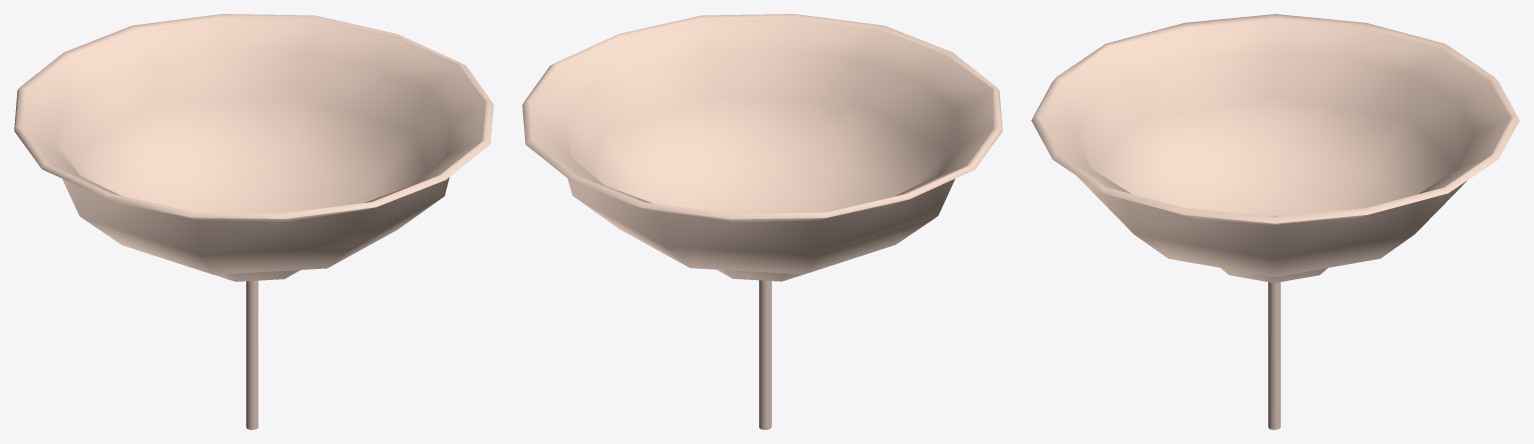
Rendered from Lampe3.fbx.
The picture shows the model from 3 angles, left to right: view 1: azimuth 30°, elevation 25°; view 2: azimuth 150°, elevation 25°; view 3: azimuth 270°, elevation 25°; orthographic projection.
Parts seen in each view (by area): view 1: Lampe3; view 2: Lampe3; view 3: Lampe3.
Boxes of the visible parts, box(x1,y1,x2,y2) form: Lampe3: box(14, 14, 493, 429); Lampe3: box(522, 14, 1002, 429); Lampe3: box(1031, 14, 1519, 429).
Bounding box in the file's own units: 0.3991 × 0.2815 × 0.3991.
